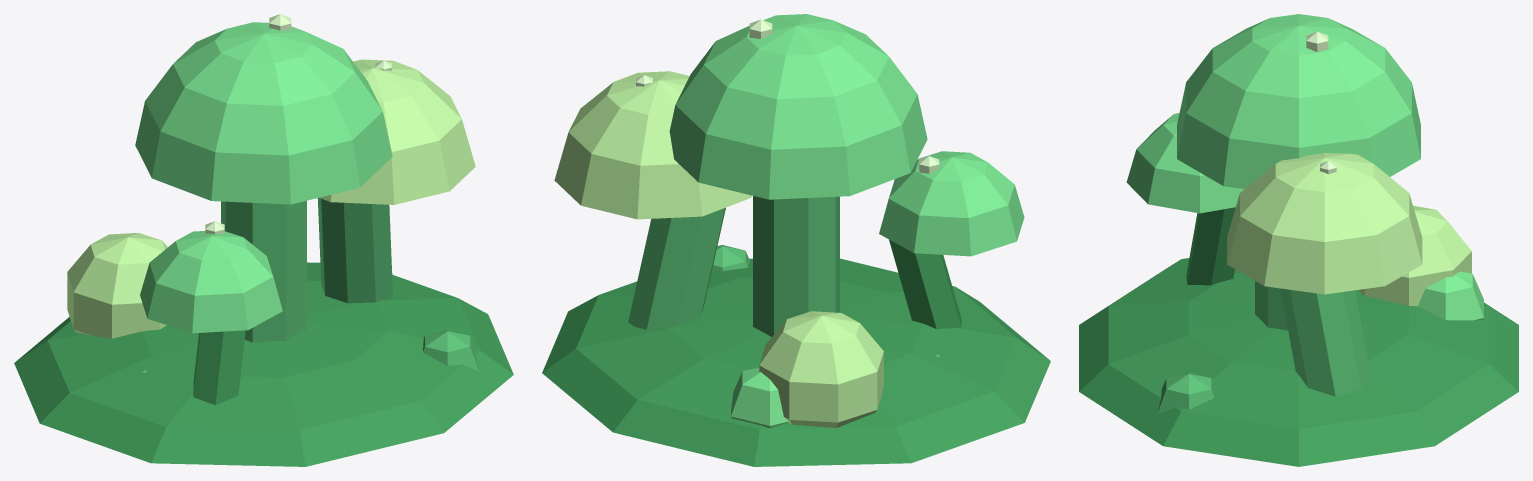
The model's file is biovine_flat.glb.
The picture shows the model from 3 angles, left to right: view 1: azimuth 30°, elevation 25°; view 2: azimuth 150°, elevation 25°; view 3: azimuth 270°, elevation 25°; orthographic projection. The views are drawn at different scales.
Parts seen in each view (by area): view 1: BioBase, Cap_0, Cap_1, Cap_2, Bulb_0, Stem_1, Stem_0, Stem_2, Bump_0; view 2: BioBase, Cap_0, Cap_1, Cap_2, Bulb_0, Stem_0, Stem_1, Stem_2, Bulb_1, Bump_0; view 3: BioBase, Cap_0, Cap_1, Stem_1, Cap_2, Bulb_0, Stem_2, Bulb_1, Bump_0, Stem_0.
Boxes of the visible parts, x1,y1,x2,y2 form: BioBase: [14, 262, 513, 466]; Cap_0: [135, 22, 392, 204]; Cap_1: [319, 59, 475, 204]; Cap_2: [140, 231, 282, 333]; Bulb_0: [67, 233, 167, 338]; Stem_1: [317, 198, 392, 303]; Stem_0: [221, 200, 306, 342]; Stem_2: [193, 330, 245, 405]; Bump_0: [423, 330, 478, 371]; BioBase: [542, 258, 1050, 466]; Cap_0: [669, 14, 927, 199]; Cap_1: [554, 71, 751, 219]; Cap_2: [879, 151, 1024, 256]; Bulb_0: [759, 311, 883, 428]; Stem_0: [753, 196, 839, 336]; Stem_1: [628, 207, 725, 329]; Stem_2: [889, 239, 961, 329]; Bulb_1: [731, 367, 788, 428]; Bump_0: [712, 245, 749, 270]; BioBase: [1079, 258, 1518, 466]; Cap_0: [1177, 14, 1420, 188]; Cap_1: [1227, 153, 1422, 294]; Stem_1: [1280, 288, 1370, 396]; Cap_2: [1126, 113, 1244, 213]; Bulb_0: [1358, 205, 1471, 306]; Stem_2: [1186, 207, 1235, 285]; Bulb_1: [1418, 271, 1483, 320]; Bump_0: [1157, 372, 1214, 413]; Stem_0: [1255, 281, 1287, 330].
Size of the model in its own units: 1.4 by 1.06 by 1.2.
